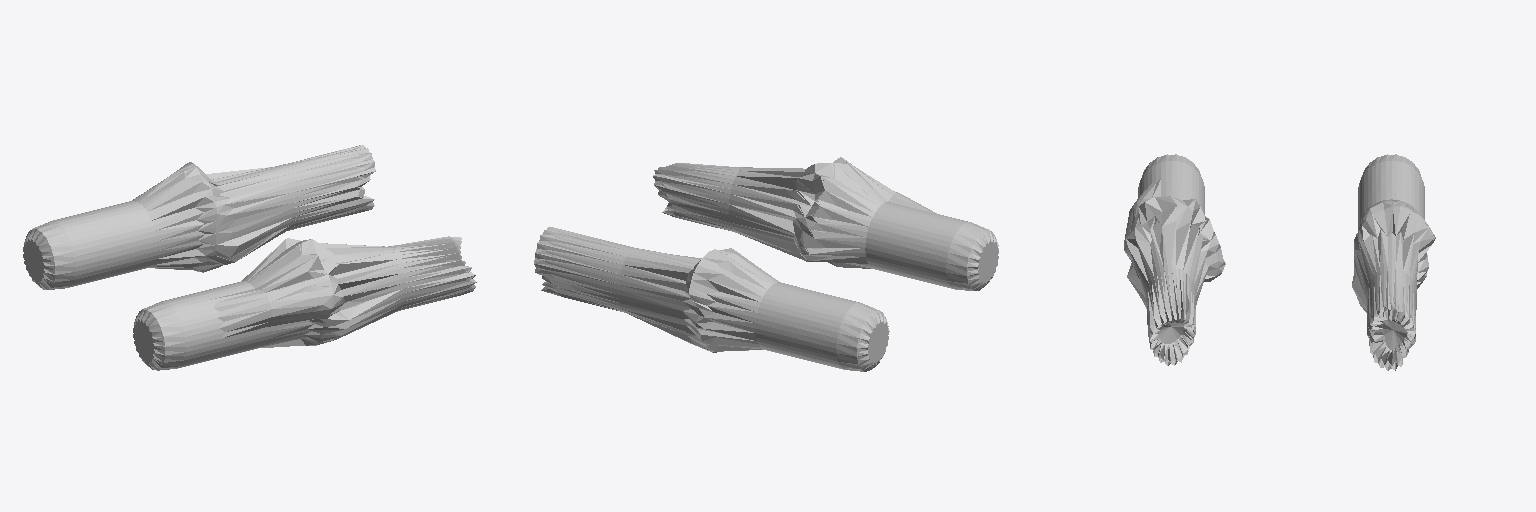
The model's file is 2 turbina hp.OBJ.
The picture shows the model from 3 angles: view 1: azimuth 30°, elevation 25°; view 2: azimuth 150°, elevation 25°; view 3: azimuth 270°, elevation 25°; orthographic projection.
Parts seen in each view (by area): view 1: polySurface31; view 2: polySurface31; view 3: polySurface31.
Boxes of the visible parts, x1=… form: polySurface31: x1=23, y1=145, x2=476, y2=370; polySurface31: x1=534, y1=157, x2=998, y2=371; polySurface31: x1=1124, y1=154, x2=1435, y2=370.
Bounding box in the file's own units: 24.67 × 7.83 × 19.99.